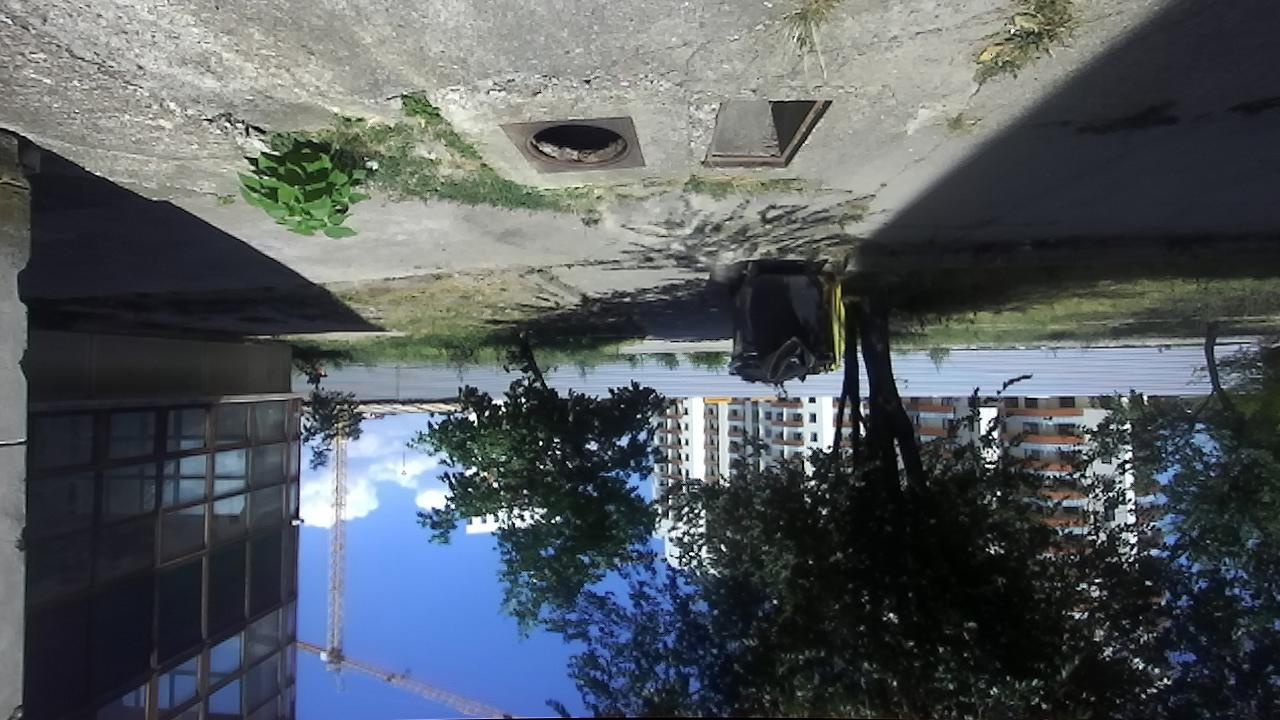drain: (697, 93, 834, 175), (523, 121, 634, 170)
